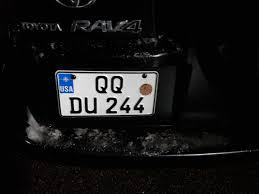2: (105, 96, 118, 114)
4: (119, 96, 132, 114), (133, 95, 145, 113)
D: (68, 95, 83, 114)
Q: (94, 74, 109, 95), (110, 74, 124, 94)
U: (84, 95, 98, 114)
